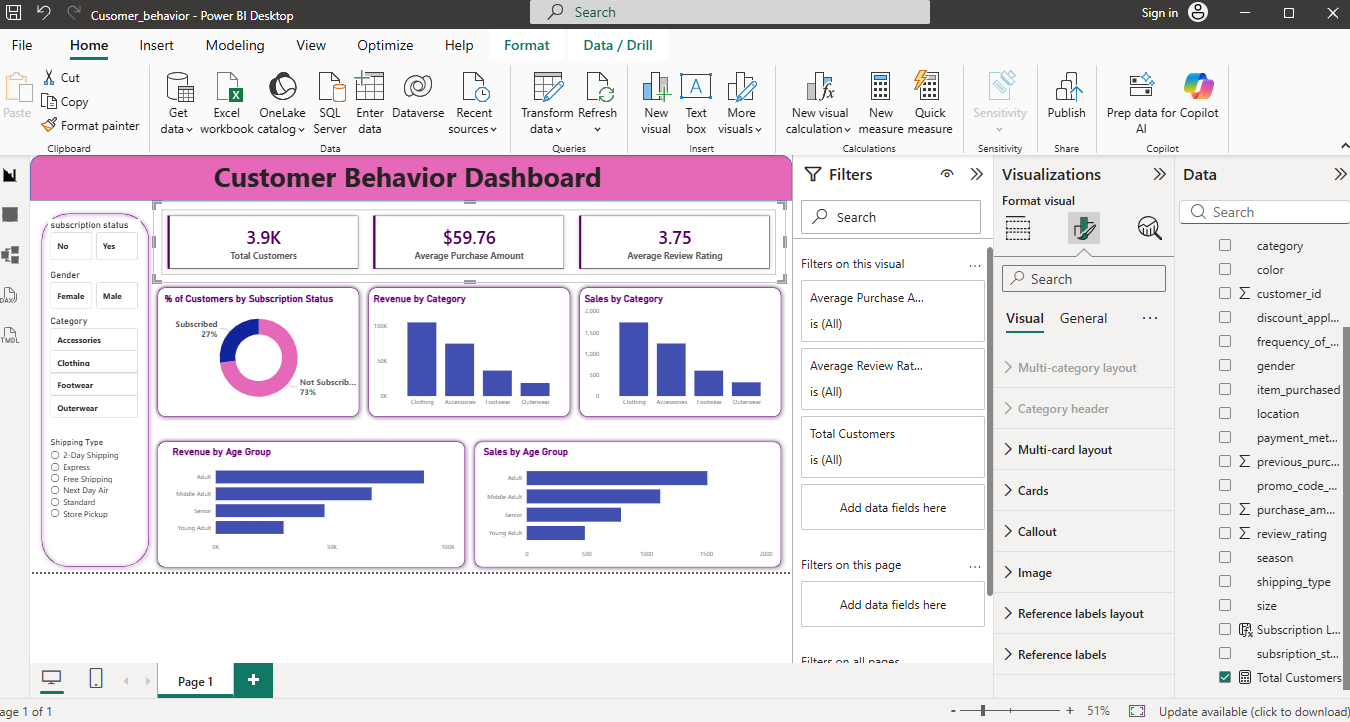

Layout of this report page (visuals, bound fields, positions):
{"tool":"powerbi","page":{"name":"Page 1","canvas":[1500,820],"ordinal":0},"visuals":[{"type":"cardVisual","fields":{"Data":["custom_behavior customers.Number of Customers","custom_behavior customers.Average Purchase Amount","custom_behavior customers.Average Review Rating"]},"box":[242.7,90.2,1244.8,162.4],"z":0},{"type":"shape","box":[0,0,1500.6,90.2],"z":1000},{"type":"textbox","box":[0,0,1487.5,90.2],"z":2000},{"type":"shape","box":[242.7,252.6,414.9,272.2],"z":3000},{"type":"donutChart","title":"% of Customers by Subscription Status","fields":{"Category":["custom_behavior customers.Subscription Label"],"Y":["CountNonNull(custom_behavior customers.customer_id)"]},"box":[260.8,272.2,380.5,232.9],"z":4000},{"type":"shape","box":[657.6,252.6,414.9,272.2],"z":4001},{"type":"shape","box":[1072.6,252.6,414.9,272.2],"z":4002},{"type":"clusteredColumnChart","title":"Revenue by Category","fields":{"Y":["Sum(custom_behavior customers.purchase_amount)"],"Category":["custom_behavior customers.category"]},"box":[670.8,272.2,388.7,232.9],"z":4003},{"type":"clusteredColumnChart","title":"Sales by Category","fields":{"Y":["CountNonNull(custom_behavior customers.customer_id)"],"Category":["custom_behavior customers.category"]},"box":[1085.7,272.2,388.7,232.9],"z":4004},{"type":"shape","box":[13.1,106.6,229.6,713.4],"z":4005},{"type":"advancedSlicerVisual","title":"subscription status","fields":{"Values":["custom_behavior customers.subsription_status"]},"box":[36.1,126.3,182,86.9],"z":4006},{"type":"advancedSlicerVisual","title":"Gender","fields":{"Values":["custom_behavior customers.gender"]},"box":[36.1,224.7,182,83.6],"z":4007},{"type":"advancedSlicerVisual","title":"Category","fields":{"Values":["custom_behavior customers.category"]},"box":[36.1,314.9,182,209.9],"z":4008},{"type":"listSlicer","title":"Shipping Type","fields":{"Values":["custom_behavior customers.shipping_type"]},"box":[36.1,556,182,213.2],"z":4009},{"type":"shape","box":[242.7,554.3,623.2,265.7],"z":4011},{"type":"shape","box":[865.9,554.3,621.6,265.7],"z":4012},{"type":"clusteredBarChart","title":"Sales by Age Group","fields":{"Y":["custom_behavior customers.Number of Customers"],"Category":["custom_behavior customers.age_group"]},"box":[887.2,572.4,578.9,229.6],"z":4013},{"type":"clusteredBarChart","title":"Revenue by Age Group","fields":{"Category":["custom_behavior customers.age_group"],"Y":["Sum(custom_behavior customers.purchase_amount)"]},"box":[275.5,572.4,565.8,216.5],"z":4014}]}

Visuals, with their boxes on the page's 1500x820 design canvas (x1, y1, x2, y2). These are canvas units, not pixel positions in the 1350x722 screenshot, which may show the page scaled, cropped or inside an application window:
cardVisual - custom_behavior customers.Number of Customers x custom_behavior customers.Average Purchase Amount: x1=243, y1=90, x2=1488, y2=253
shape: x1=0, y1=0, x2=1501, y2=90
textbox: x1=0, y1=0, x2=1488, y2=90
shape: x1=243, y1=253, x2=658, y2=525
"% of Customers by Subscription Status" donutChart: x1=261, y1=272, x2=641, y2=505
shape: x1=658, y1=253, x2=1072, y2=525
shape: x1=1073, y1=253, x2=1488, y2=525
"Revenue by Category" clusteredColumnChart: x1=671, y1=272, x2=1060, y2=505
"Sales by Category" clusteredColumnChart: x1=1086, y1=272, x2=1474, y2=505
shape: x1=13, y1=107, x2=243, y2=820
"subscription status" advancedSlicerVisual: x1=36, y1=126, x2=218, y2=213
"Gender" advancedSlicerVisual: x1=36, y1=225, x2=218, y2=308
"Category" advancedSlicerVisual: x1=36, y1=315, x2=218, y2=525
"Shipping Type" listSlicer: x1=36, y1=556, x2=218, y2=769
shape: x1=243, y1=554, x2=866, y2=820
shape: x1=866, y1=554, x2=1488, y2=820
"Sales by Age Group" clusteredBarChart: x1=887, y1=572, x2=1466, y2=802
"Revenue by Age Group" clusteredBarChart: x1=276, y1=572, x2=841, y2=789
